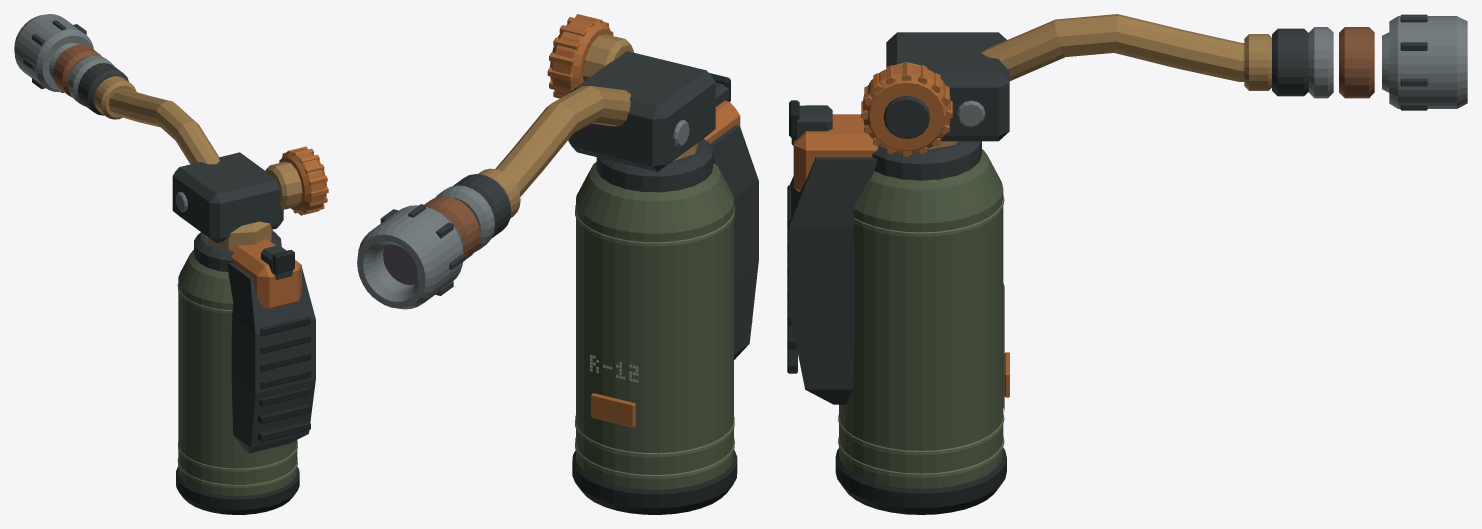
File: repair.glb
The picture shows the model from 3 angles, left to right: view 1: azimuth 30°, elevation 25°; view 2: azimuth 150°, elevation 25°; view 3: azimuth 270°, elevation 25°; orthographic projection. The views are drawn at different scales.
Parts seen in each view (by area): view 1: Torch; view 2: Torch; view 3: Torch.
Boxes of the visible parts, box(x1,y1,x2,y2) form: Torch: box(14, 14, 328, 514); Torch: box(357, 14, 758, 514); Torch: box(787, 14, 1467, 514).
Size of the model in its own units: 0.114 by 0.2909 by 0.381.
